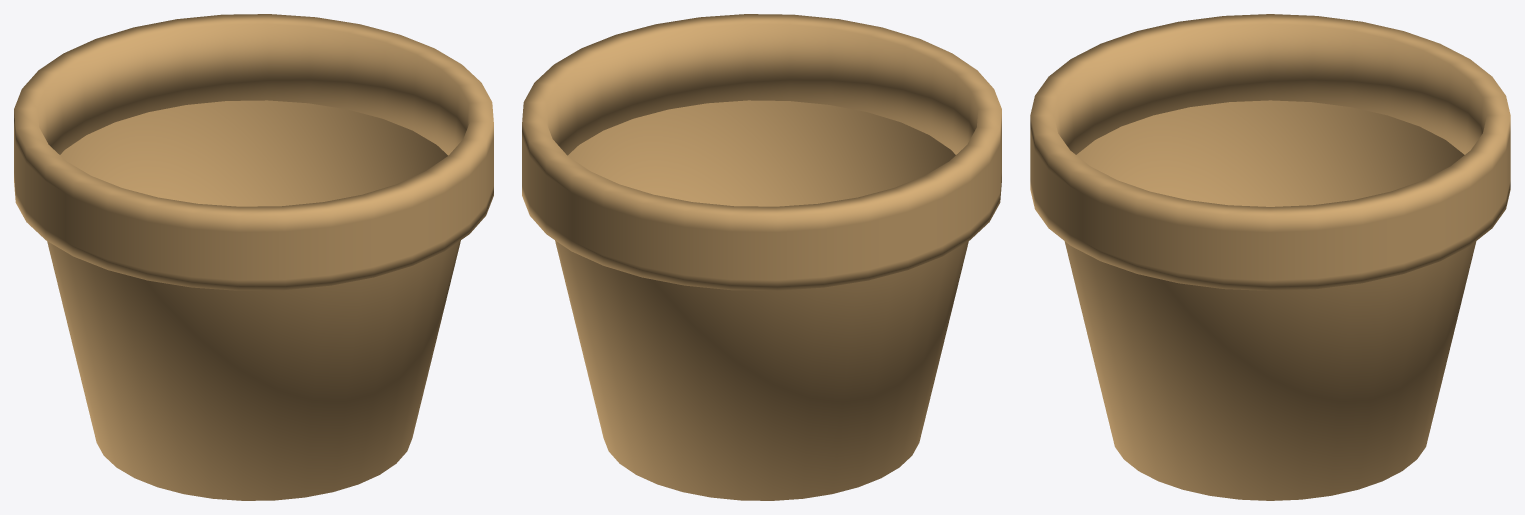
Rendered from Krukke.glb.
3 renders of one model, left to right at view 1: azimuth 30°, elevation 25°; view 2: azimuth 150°, elevation 25°; view 3: azimuth 270°, elevation 25°, orthographic.
Parts seen in each view (by area): view 1: Circle, Circle.001; view 2: Circle, Circle.001; view 3: Circle, Circle.001.
Boxes of the visible parts, x1,y1,x2,y2 form: Circle: (47, 100, 460, 500); Circle.001: (14, 14, 493, 290); Circle: (555, 100, 968, 500); Circle.001: (522, 14, 1001, 290); Circle: (1064, 100, 1476, 500); Circle.001: (1030, 14, 1510, 290).
Size of the model in its own units: 2.54 by 1.86 by 2.54.
